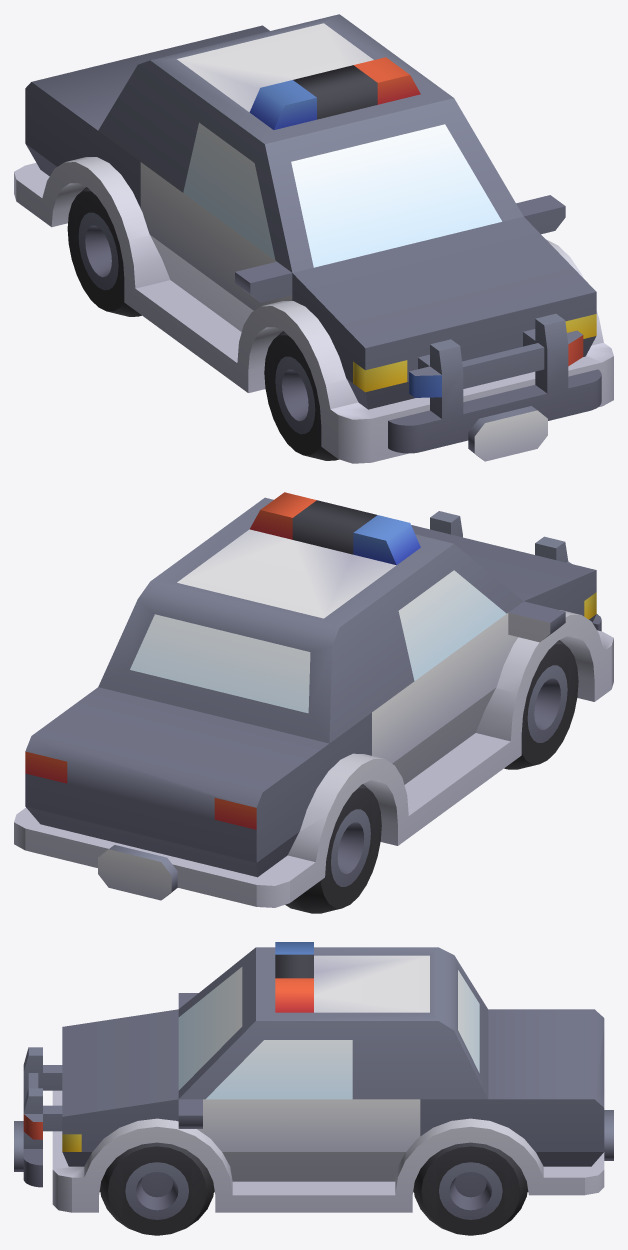
Rendered from police.glb.
3 views of the same model, one above another, from view 1: azimuth 30°, elevation 25°; view 2: azimuth 150°, elevation 25°; view 3: azimuth 270°, elevation 25° (orthographic). The views are drawn at different scales.
Parts seen in each view (by area): view 1: wheel-back-left; view 2: wheel-back-left; view 3: wheel-back-left.
Boxes of the visible parts, bbox=[...] form: wheel-back-left: bbox=[14, 14, 613, 463]; wheel-back-left: bbox=[14, 492, 613, 913]; wheel-back-left: bbox=[14, 942, 613, 1235].
Bounding box in the file's own units: 1.5 × 1.3 × 3.1.
Materials: 1 (1 with a texture image).
